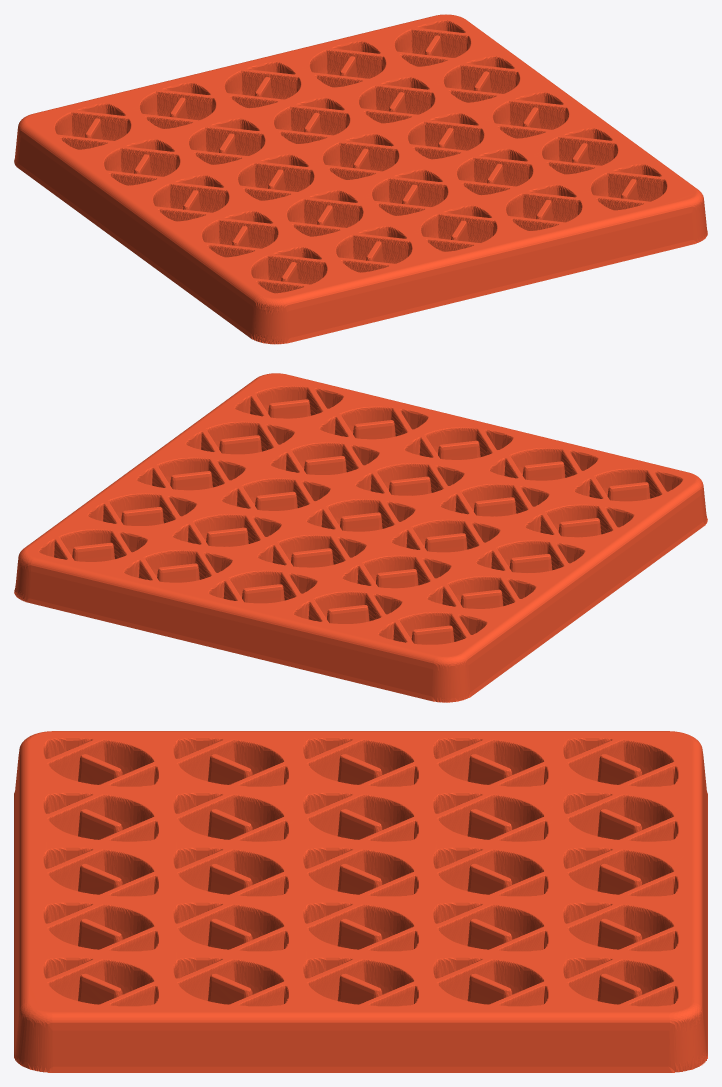
The model's file is mold.glb.
3 views of the same model, one above another, from view 1: azimuth 30°, elevation 25°; view 2: azimuth 150°, elevation 25°; view 3: azimuth 270°, elevation 25° (orthographic). The views are drawn at different scales.
Parts seen in each view (by area): view 1: geometry_0; view 2: geometry_0; view 3: geometry_0.
Boxes of the visible parts, x1,y1,x2,y2 form: geometry_0: (14,14,707,344); geometry_0: (14,373,707,702); geometry_0: (14,731,707,1072).
Bounding box in the file's own units: 0.1584 × 0.0136 × 0.1584.
